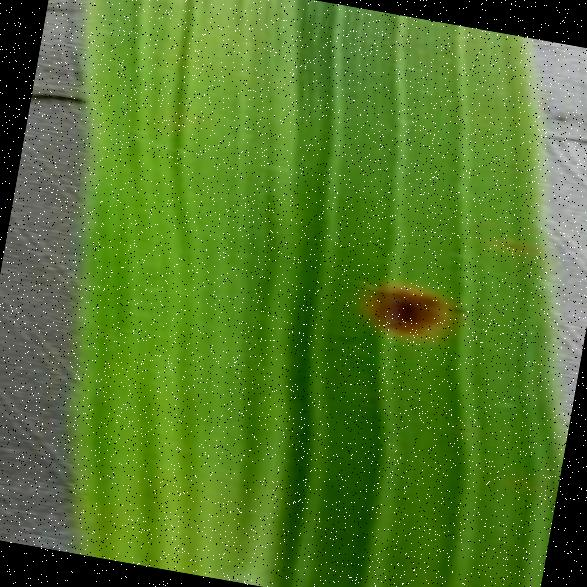Brown_Spot: (336, 256, 461, 364), (486, 229, 524, 256), (445, 291, 472, 318)
